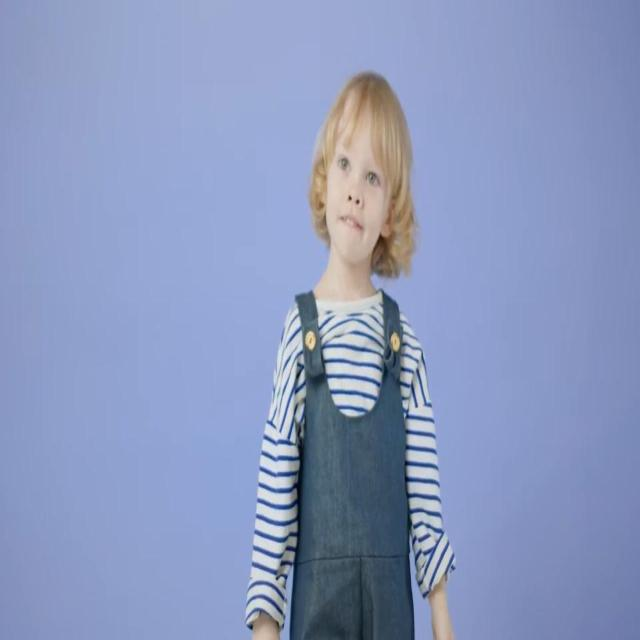no-helmet: (326, 126, 386, 262)
